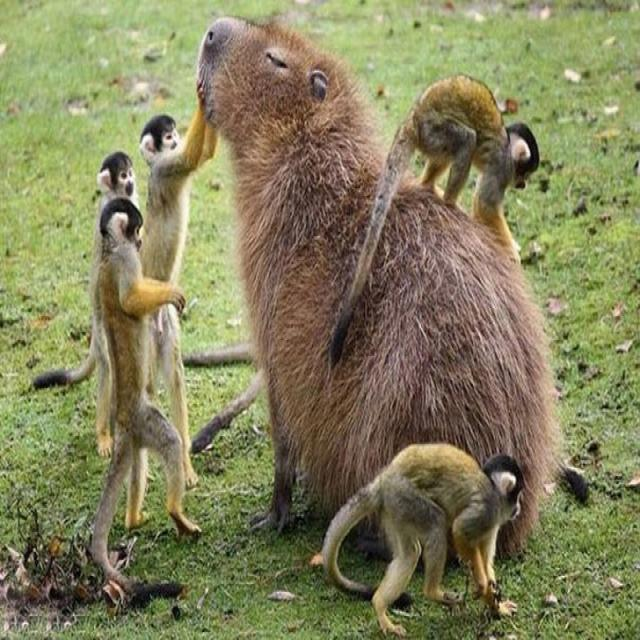capy: (193, 11, 559, 553)
